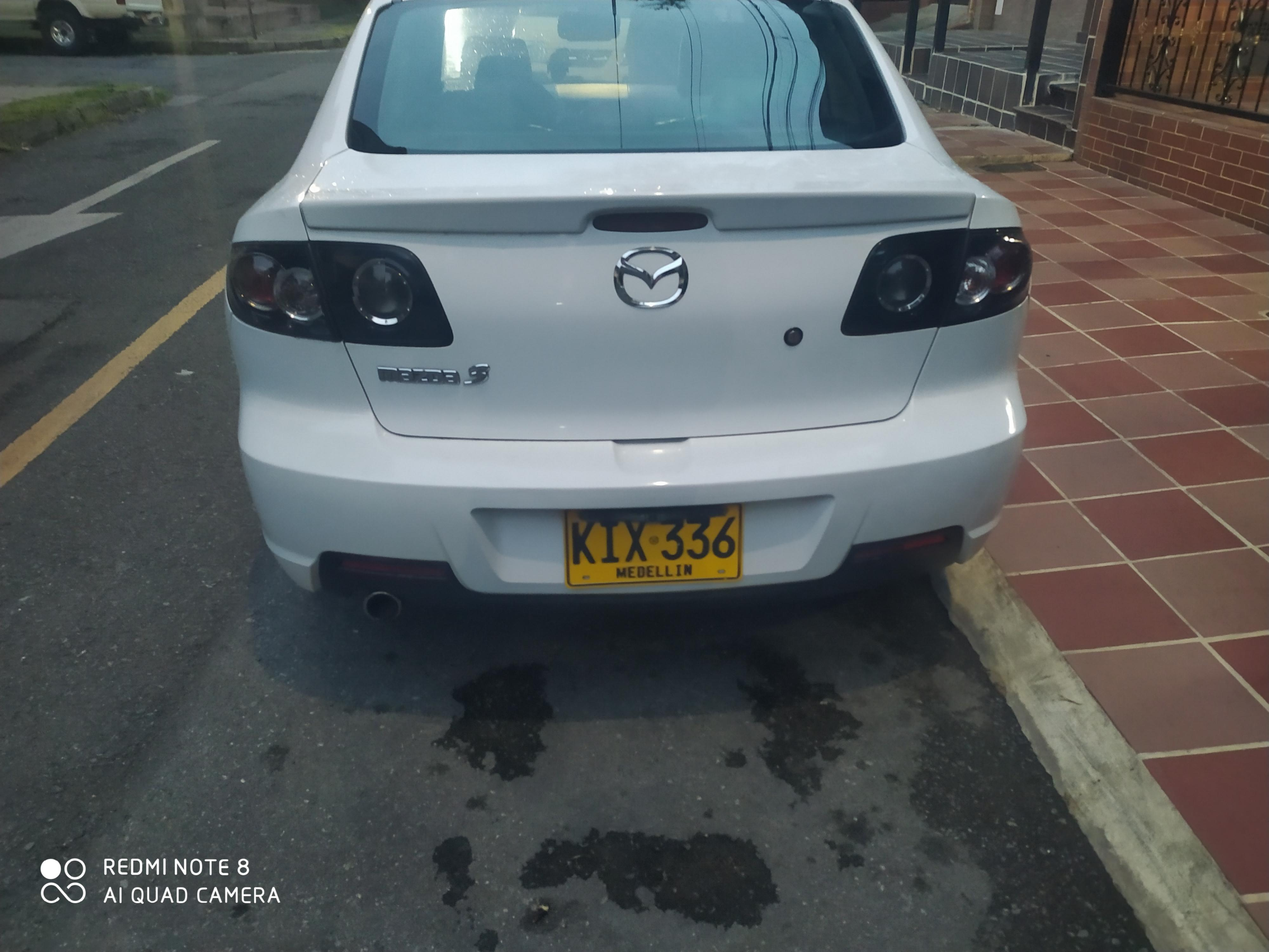placa: (553, 499, 752, 589)
